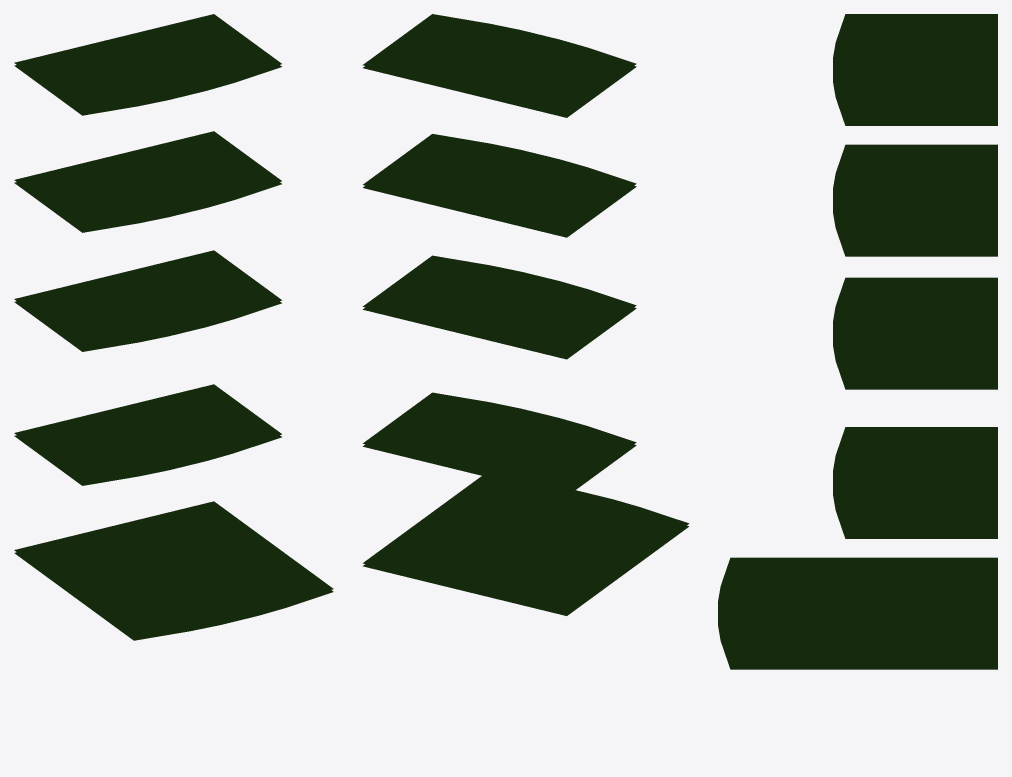
Rendered from Fridge_14_FridgeBodyMesh_0_2.obj.
3 views of the same model, side by side, from view 1: azimuth 30°, elevation 25°; view 2: azimuth 150°, elevation 25°; view 3: azimuth 270°, elevation 25° (orthographic). The views are drawn at different scales.
Size of the model in its own units: 0.501 by 1.6 by 0.5444.
